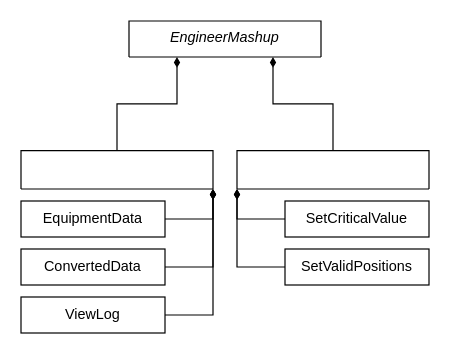
This 450x354 diagram has some shape labels left out. Each missing label, with the centre of its shape:
MonitoringMashup: point (116, 169)
SetupMashup: point (332, 169)
